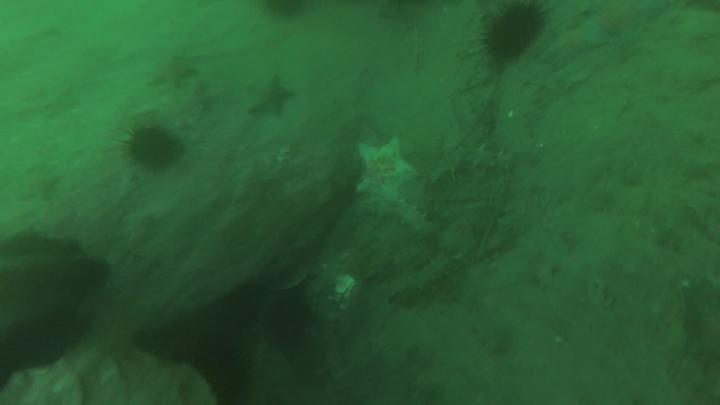echinus: (268, 296, 312, 357), (485, 7, 538, 56), (132, 131, 179, 168)
holothurian: (395, 253, 451, 300), (435, 145, 510, 176), (389, 206, 434, 234)
starfish: (357, 139, 415, 202), (548, 22, 608, 65), (249, 80, 296, 116), (152, 60, 198, 89)
